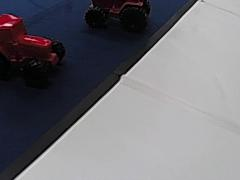Tracktor: (1, 12, 66, 79), (81, 0, 151, 30)
